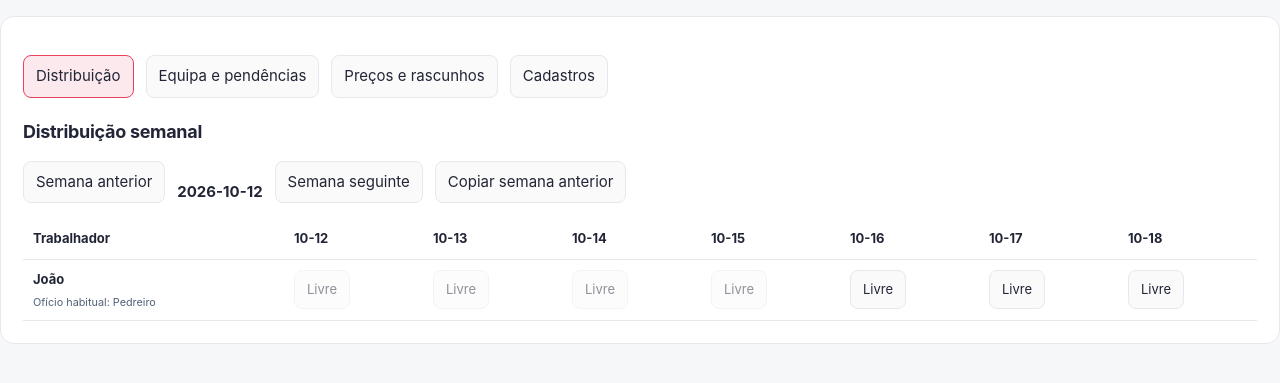
Test: identifica o ofício habitual e cancela a cópia da semana sem enviar comando
Expected: the text "Ofício habitual: Pedreiro" is shown, [33,296,156,309]
Click the button "Copiar semana anterior": coordinates (531, 182) [435,160,626,203]
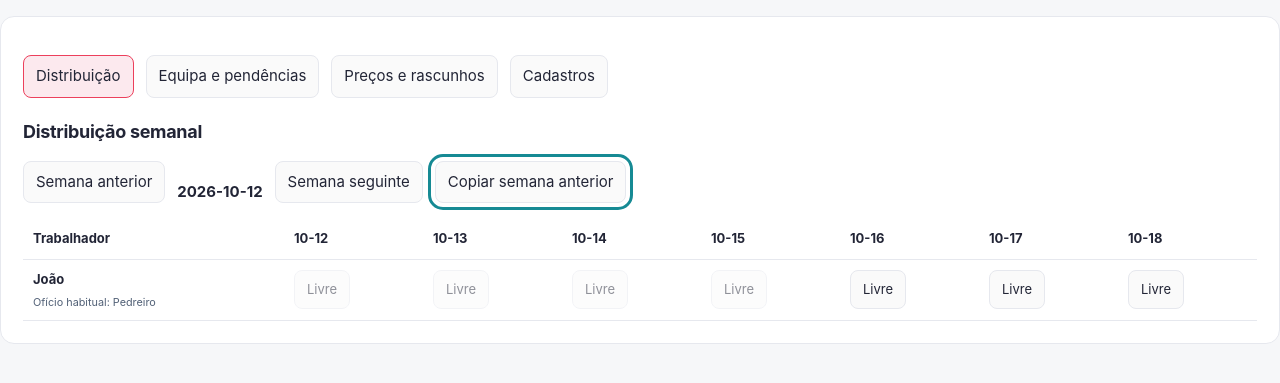
Click the button "Copiar semana anterior": coordinates (531, 182) [435,160,626,203]
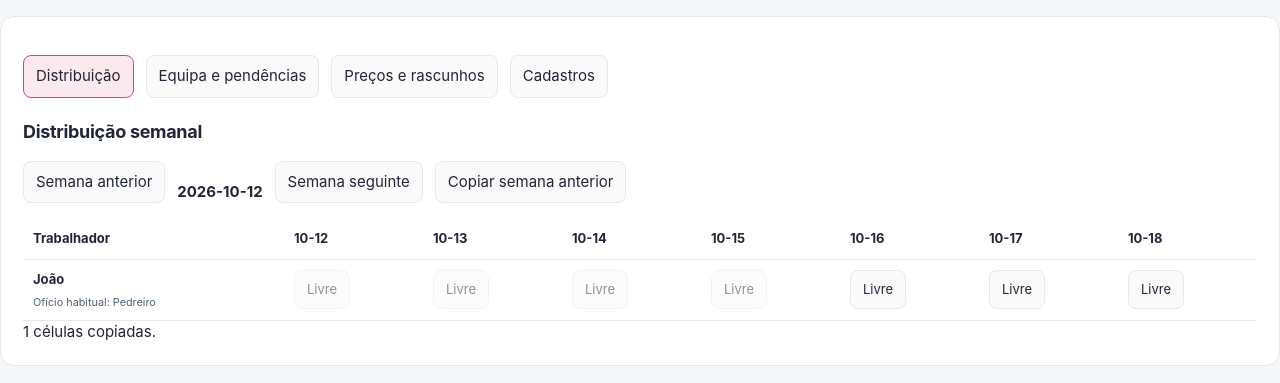
Now the text "1 células copiadas." is shown, box [23,322,156,341]
